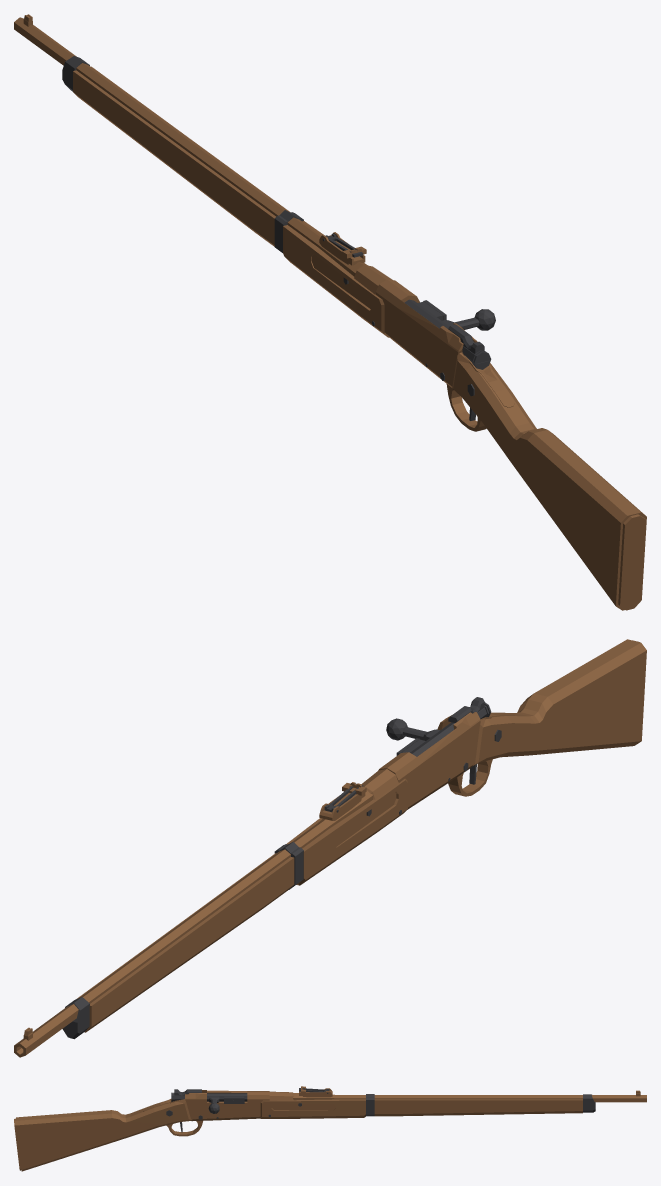
The picture shows the model from 3 angles, top to bottom: view 1: azimuth 30°, elevation 25°; view 2: azimuth 150°, elevation 25°; view 3: azimuth 270°, elevation 25°; orthographic projection. The views are drawn at different scales.
Visible parts, largest first — view 1: lebel-m1886; view 2: lebel-m1886; view 3: lebel-m1886.
Boxes of the visible parts, box(x1,y1,x2,y2) form: lebel-m1886: box(14, 14, 646, 610); lebel-m1886: box(14, 639, 646, 1057); lebel-m1886: box(14, 1086, 646, 1171).
Size of the model in its own units: 0.0822 by 0.1868 by 1.3.
